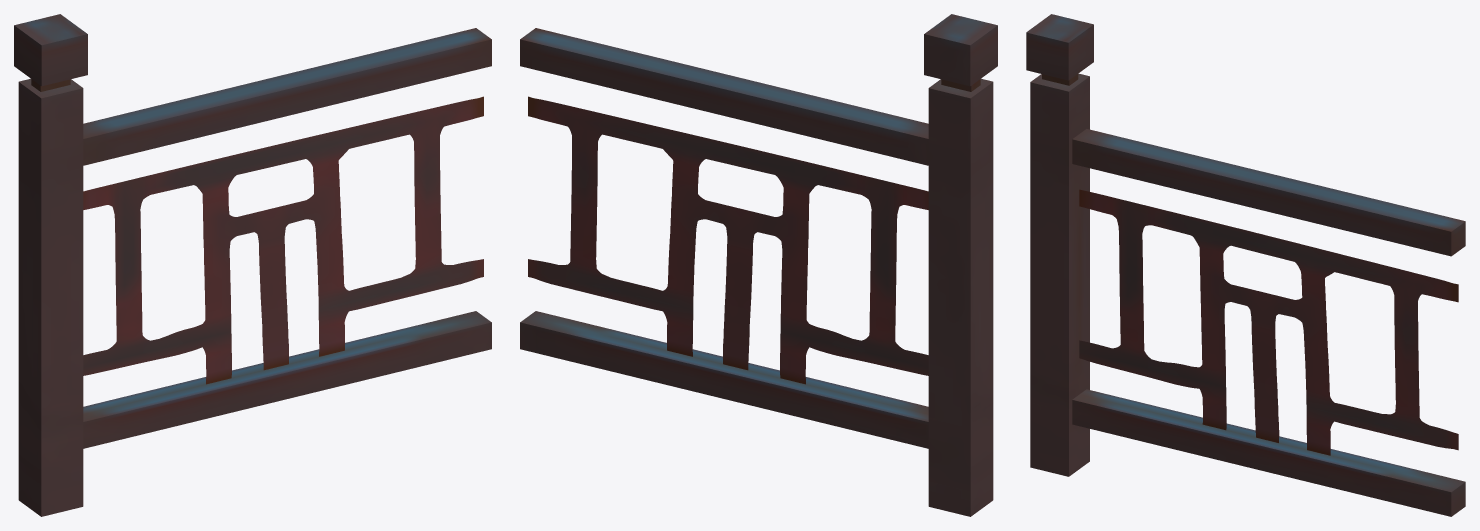
File: BFence_B.fbx
The picture shows the model from 3 angles, left to right: view 1: azimuth 30°, elevation 25°; view 2: azimuth 150°, elevation 25°; view 3: azimuth 330°, elevation 25°; orthographic projection. The views are drawn at different scales.
Parts seen in each view (by area): view 1: BFence_B; view 2: BFence_B; view 3: BFence_B.
Boxes of the visible parts, x1=… form: BFence_B: x1=14, y1=14, x2=491, y2=516; BFence_B: x1=520, y1=14, x2=997, y2=516; BFence_B: x1=1026, y1=14, x2=1465, y2=516.
Bounding box in the file's own units: 101 × 100 × 10.5.
